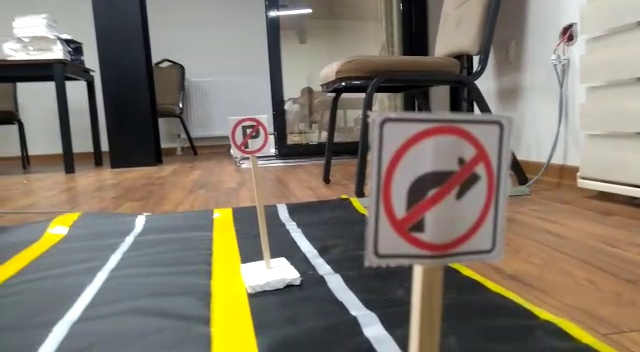park_yapilmaz: (229, 114, 272, 155)
saga_donulmez: (375, 117, 499, 251)
